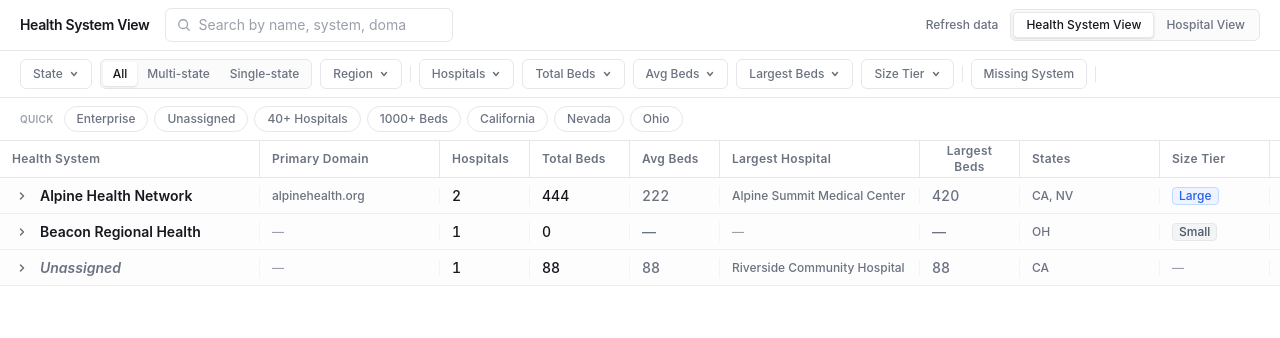
Scenario: SearchBar integration in HealthSystemView › search with no matches shows empty state (VAL-FILTER-045)
Check: the heading "Health System View" is shown, box 20,15 -> 150,35
Type "zzznonexistent" into the search field at (310, 25), box 166,8 -> 454,42
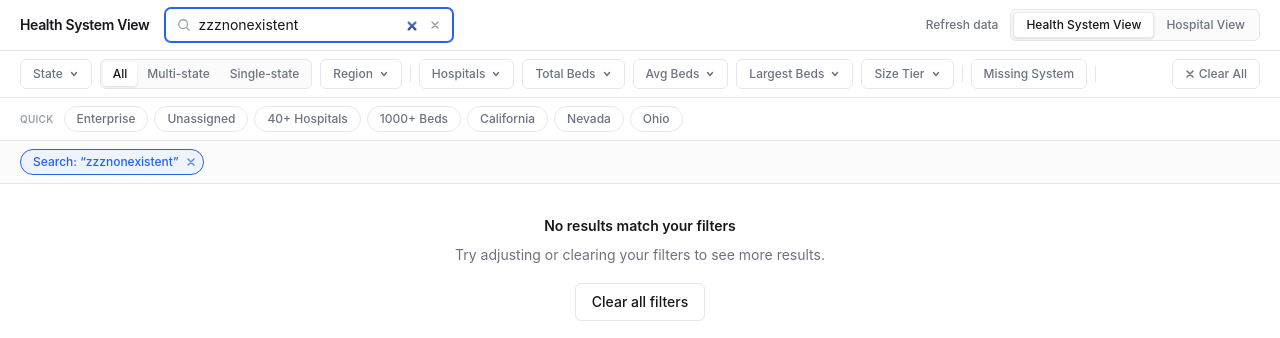
Check: the text "No results match your filters" is shown, box 544,217 -> 736,234
